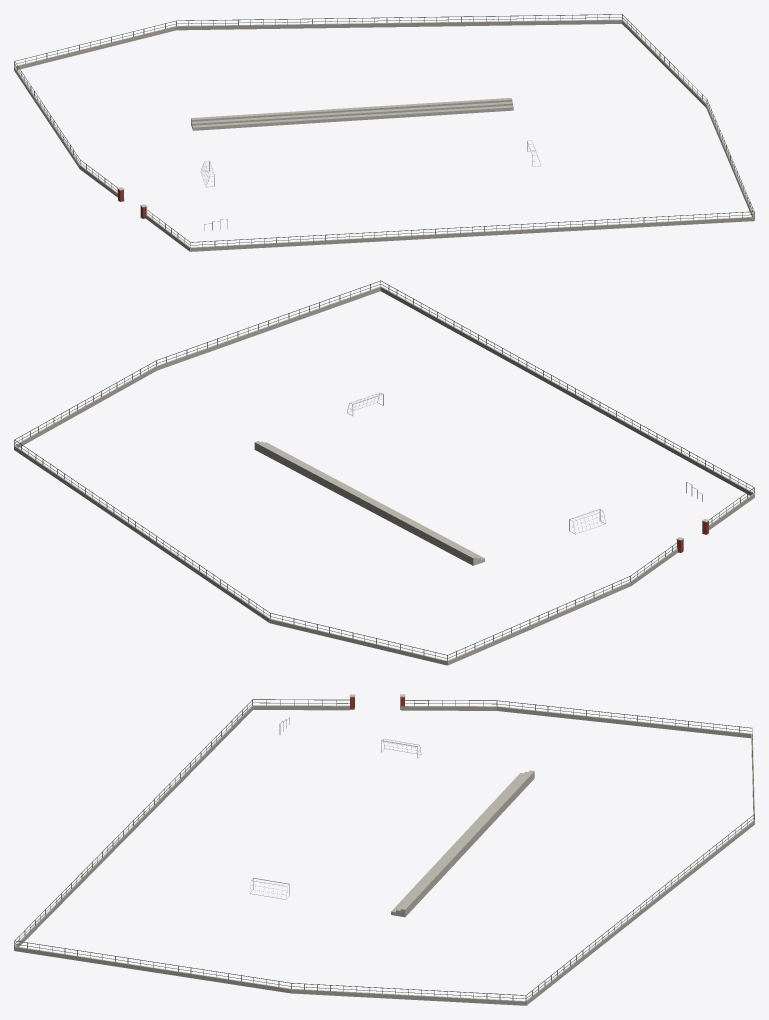
3 views of the same model, one above another, from view 1: azimuth 30°, elevation 25°; view 2: azimuth 150°, elevation 25°; view 3: azimuth 270°, elevation 25° (orthographic). The views are drawn at different scales.
Visible parts, largest first — view 1: site-wall-concrete, site-stand-concrete, site-fence; view 2: site-wall-concrete, site-fence, site-stand-concrete; view 3: site-wall-concrete, site-fence, site-stand-concrete.
Boxes of the visible parts, x1,y1,x2,y2 form: site-wall-concrete: (14,19,754,251); site-stand-concrete: (191,98,513,130); site-fence: (14,14,754,247); site-wall-concrete: (14,286,754,665); site-fence: (14,280,754,661); site-stand-concrete: (254,441,484,565); site-wall-concrete: (14,705,754,1005); site-fence: (14,699,754,1001); site-stand-concrete: (391,770,534,917).
Size of the model in its own units: 132 by 2.85 by 139.
